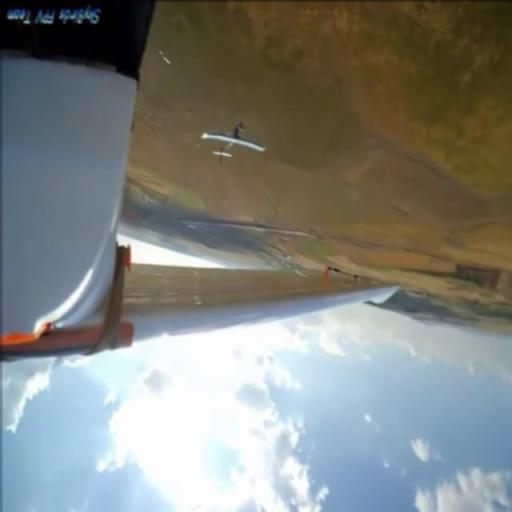uav: (199, 120, 266, 163)
